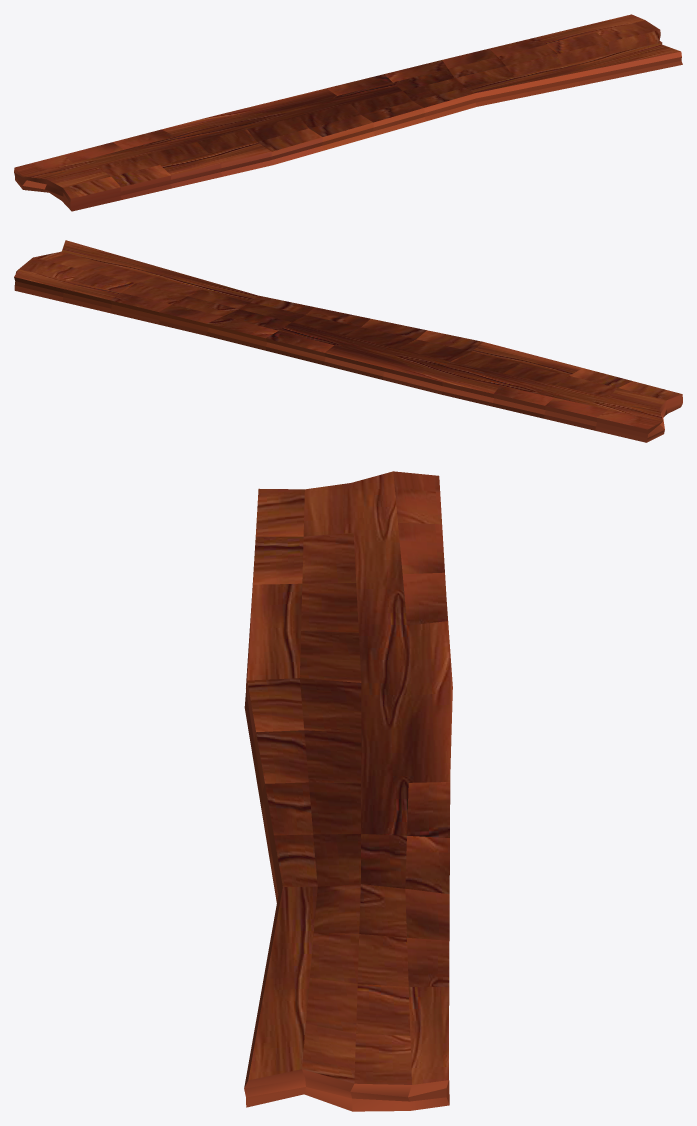
File: Tabla_correcta.fbx
3 renders of one model, top to bottom at view 1: azimuth 30°, elevation 25°; view 2: azimuth 150°, elevation 25°; view 3: azimuth 270°, elevation 25°, orthographic. The views are drawn at different scales.
Parts seen in each view (by area): view 1: Tabla2; view 2: Tabla2; view 3: Tabla2.
Part boxes in pixels (x1=…): Tabla2: x1=14, y1=14, x2=682, y2=211; Tabla2: x1=14, y1=240, x2=682, y2=442; Tabla2: x1=244, y1=471, x2=452, y2=1111.
Size of the model in its own units: 70.93 by 1.69 by 10.14.
